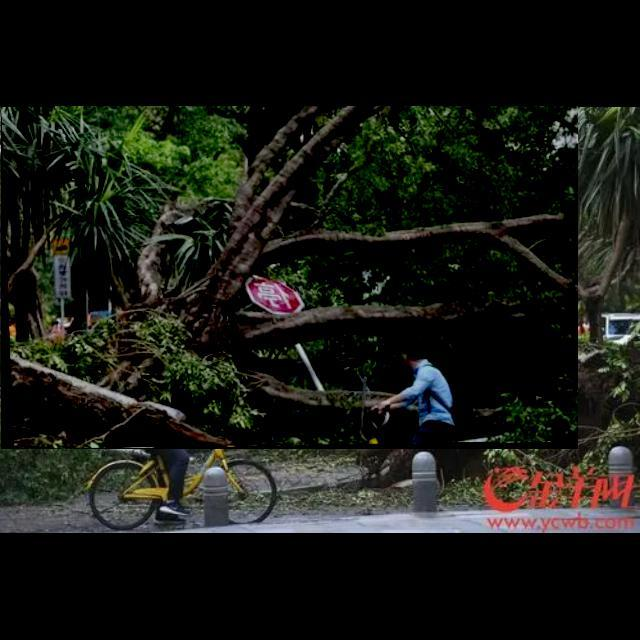fallen_tree: (1, 106, 579, 450)
